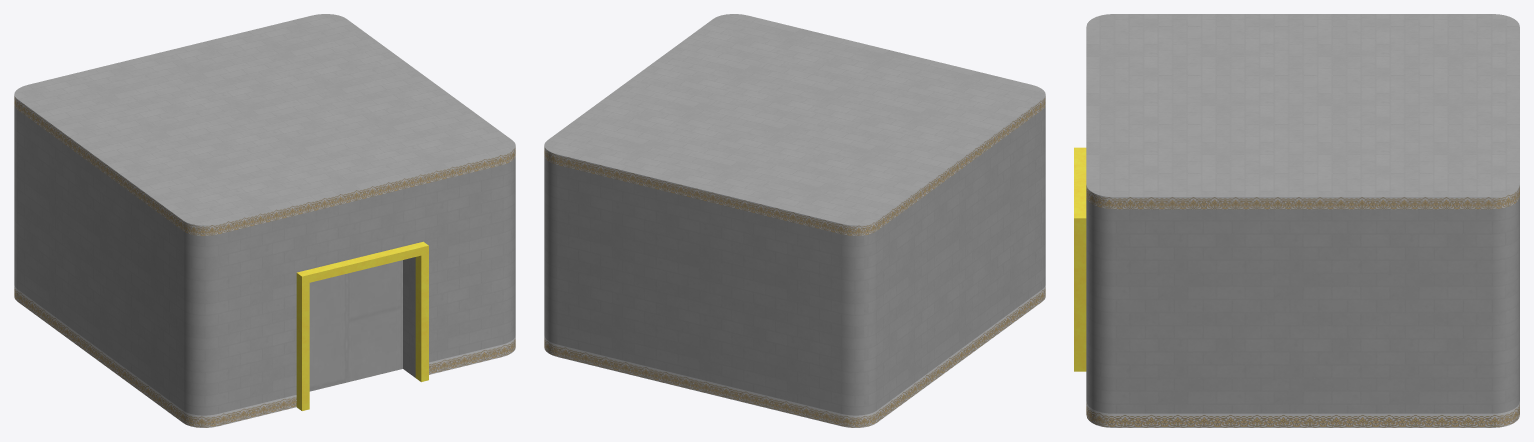
File: SM_door_module_empty.glb
The picture shows the model from 3 angles, left to right: view 1: azimuth 30°, elevation 25°; view 2: azimuth 150°, elevation 25°; view 3: azimuth 270°, elevation 25°; orthographic projection. The views are drawn at different scales.
Visible parts, largest first — view 1: SM_door_module_empty; view 2: SM_door_module_empty; view 3: SM_door_module_empty.
Boxes of the visible parts, <box> form: SM_door_module_empty: <box>14,14,515,427</box>; SM_door_module_empty: <box>544,14,1045,427</box>; SM_door_module_empty: <box>1074,14,1519,427</box>.
Bounding box in the file's own units: 14.94 × 8.78 × 15.37.
Materials: 3 (3 with a texture image).
